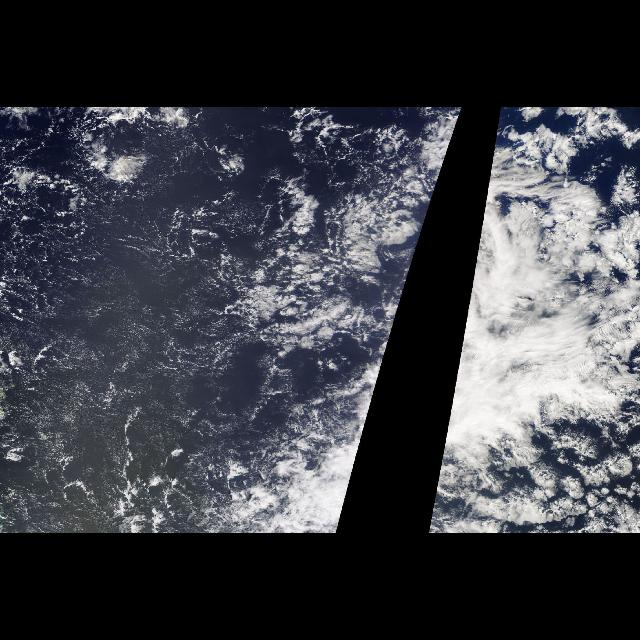Flower: (487, 413, 639, 533)
Gravel: (207, 126, 419, 234), (12, 132, 180, 232)
Sugar: (7, 246, 274, 534)
